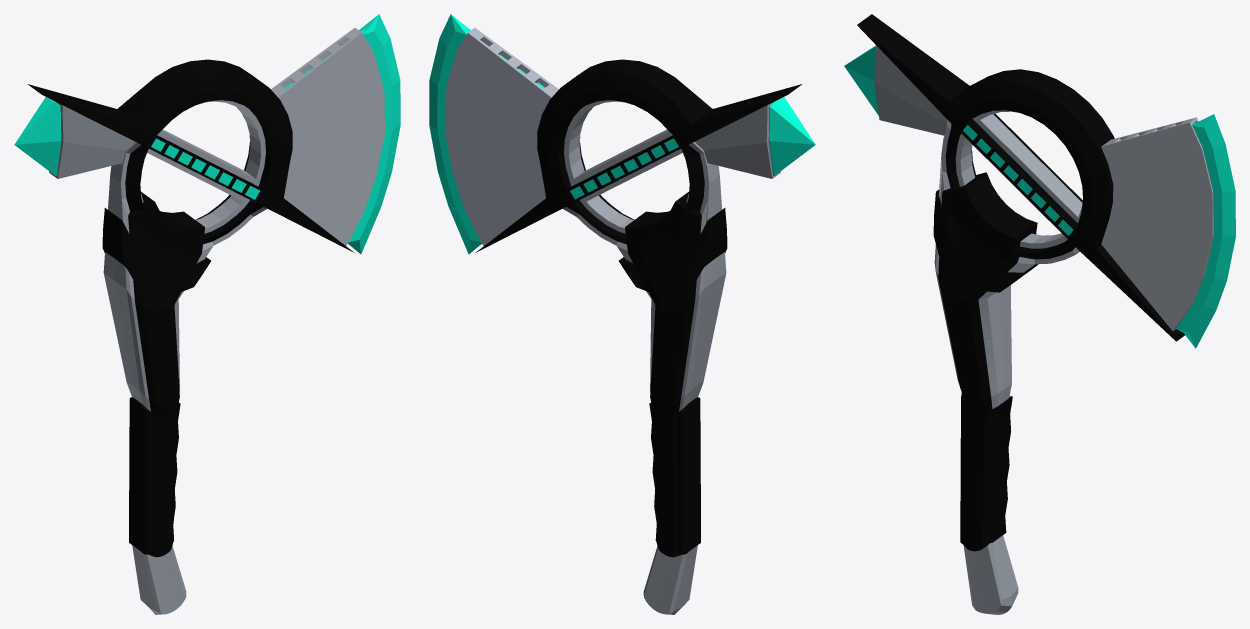
File: Axe 3 Fagerone.fbx
3 views of the same model, side by side, from view 1: azimuth 30°, elevation 25°; view 2: azimuth 150°, elevation 25°; view 3: azimuth 330°, elevation 25° (orthographic).
Parts seen in each view (by area): view 1: Cylinder.001; view 2: Cylinder.001; view 3: Cylinder.001.
Boxes of the visible parts, x1=… form: Cylinder.001: x1=14, y1=14, x2=400, y2=614; Cylinder.001: x1=429, y1=14, x2=815, y2=614; Cylinder.001: x1=844, y1=14, x2=1235, y2=614.
Size of the model in its own units: 3.44 by 4.72 by 0.5048.
Materials: 2 (2 with a texture image).
